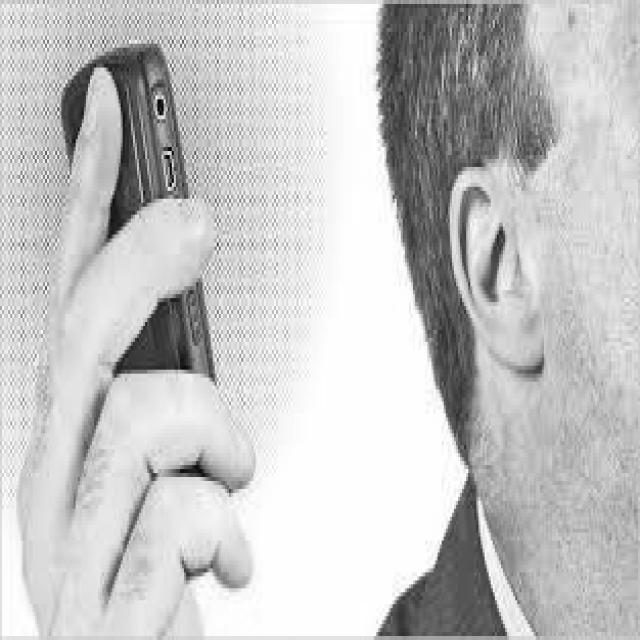No gun_phone: (64, 47, 216, 379)
